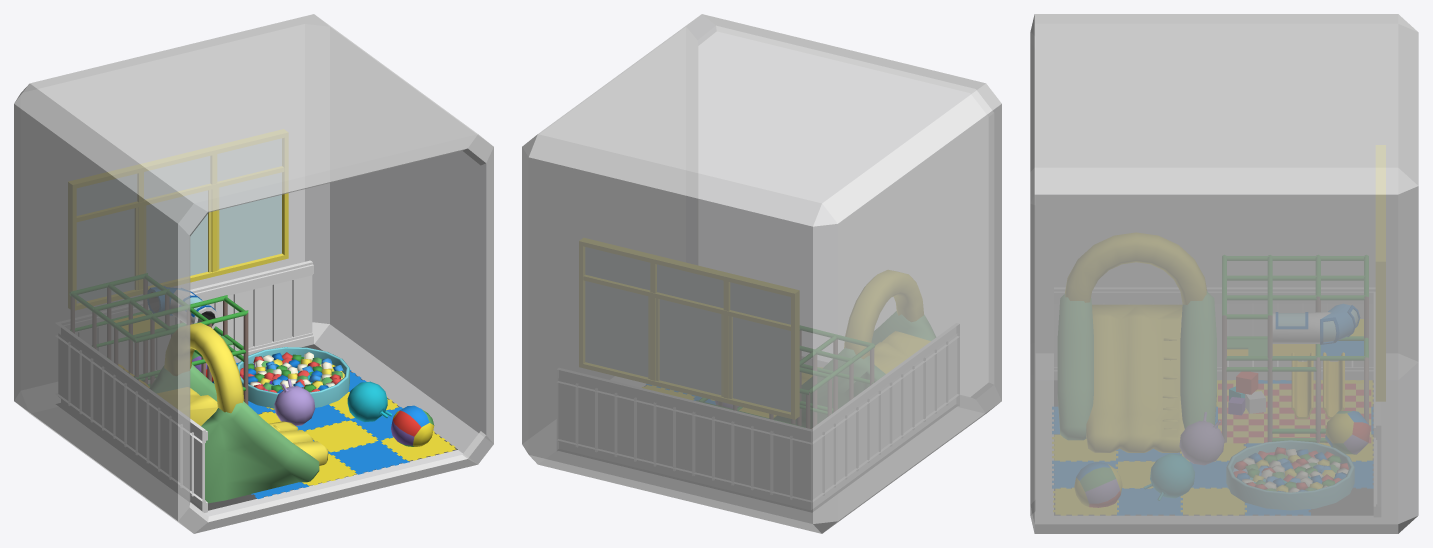
File: bubble.glb
3 views of the same model, side by side, from view 1: azimuth 30°, elevation 25°; view 2: azimuth 150°, elevation 25°; view 3: azimuth 270°, elevation 25° (orthographic). The views are drawn at different scales.
Parts seen in each view (by area): view 1: Cube.003, low_poly_interior.8442, low_poly_interior.8408, low_poly_interior.8410, low_poly_interior.8409, low_poly_interior.8411, low_poly_interior.8439, low_poly_interior.8406, low_poly_interior.8407, low_poly_interior.8433, low_poly_interior.8440, low_poly_interior.8425 (+7 smaller); view 2: Cube.003, low_poly_interior.8408, low_poly_interior.8442, low_poly_interior.8409, low_poly_interior.8410, low_poly_interior.8406, low_poly_interior.8411, low_poly_interior.8407, low_poly_interior.8404; view 3: Cube.003, low_poly_interior.8410, low_poly_interior.8411, low_poly_interior.8439, low_poly_interior.8406, low_poly_interior.8408, low_poly_interior.8409, low_poly_interior.8440, low_poly_interior.8437, low_poly_interior.8438, low_poly_interior.8441, low_poly_interior.8417 (+9 smaller).
Boxes of the visible parts, x1=… form: Cube.003: x1=14, y1=14, x2=493, y2=533; low_poly_interior.8442: x1=77, y1=139, x2=281, y2=302; low_poly_interior.8408: x1=59, y1=275, x2=312, y2=501; low_poly_interior.8410: x1=150, y1=322, x2=328, y2=503; low_poly_interior.8409: x1=68, y1=129, x2=288, y2=309; low_poly_interior.8411: x1=70, y1=273, x2=248, y2=404; low_poly_interior.8439: x1=237, y1=347, x2=349, y2=408; low_poly_interior.8406: x1=56, y1=260, x2=313, y2=443; low_poly_interior.8407: x1=56, y1=332, x2=313, y2=512; low_poly_interior.8433: x1=329, y1=440, x2=409, y2=474; low_poly_interior.8440: x1=391, y1=405, x2=434, y2=446; low_poly_interior.8425: x1=305, y1=420, x2=378, y2=452; Cube.003: x1=522, y1=14, x2=1001, y2=533; low_poly_interior.8408: x1=557, y1=334, x2=959, y2=503; low_poly_interior.8442: x1=586, y1=247, x2=790, y2=411; low_poly_interior.8409: x1=579, y1=238, x2=798, y2=419; low_poly_interior.8410: x1=774, y1=270, x2=935, y2=427; low_poly_interior.8406: x1=557, y1=323, x2=959, y2=443; low_poly_interior.8411: x1=699, y1=326, x2=874, y2=428; low_poly_interior.8407: x1=557, y1=394, x2=959, y2=509; low_poly_interior.8404: x1=558, y1=404, x2=957, y2=511; Cube.003: x1=1030, y1=14, x2=1418, y2=533; low_poly_interior.8410: x1=1058, y1=233, x2=1216, y2=452; low_poly_interior.8411: x1=1218, y1=255, x2=1370, y2=442; low_poly_interior.8439: x1=1227, y1=441, x2=1353, y2=509; low_poly_interior.8406: x1=1054, y1=288, x2=1380, y2=439; low_poly_interior.8408: x1=1054, y1=304, x2=1380, y2=506; low_poly_interior.8409: x1=1376, y1=145, x2=1385, y2=400; low_poly_interior.8440: x1=1075, y1=462, x2=1121, y2=507; low_poly_interior.8437: x1=1144, y1=454, x2=1194, y2=500; low_poly_interior.8438: x1=1180, y1=412, x2=1223, y2=464; low_poly_interior.8441: x1=1325, y1=411, x2=1369, y2=453; low_poly_interior.8417: x1=1181, y1=488, x2=1246, y2=514.
Bounding box in the file's own units: 2 × 2 × 1.92.
Materials: 2 (1 with a texture image).
